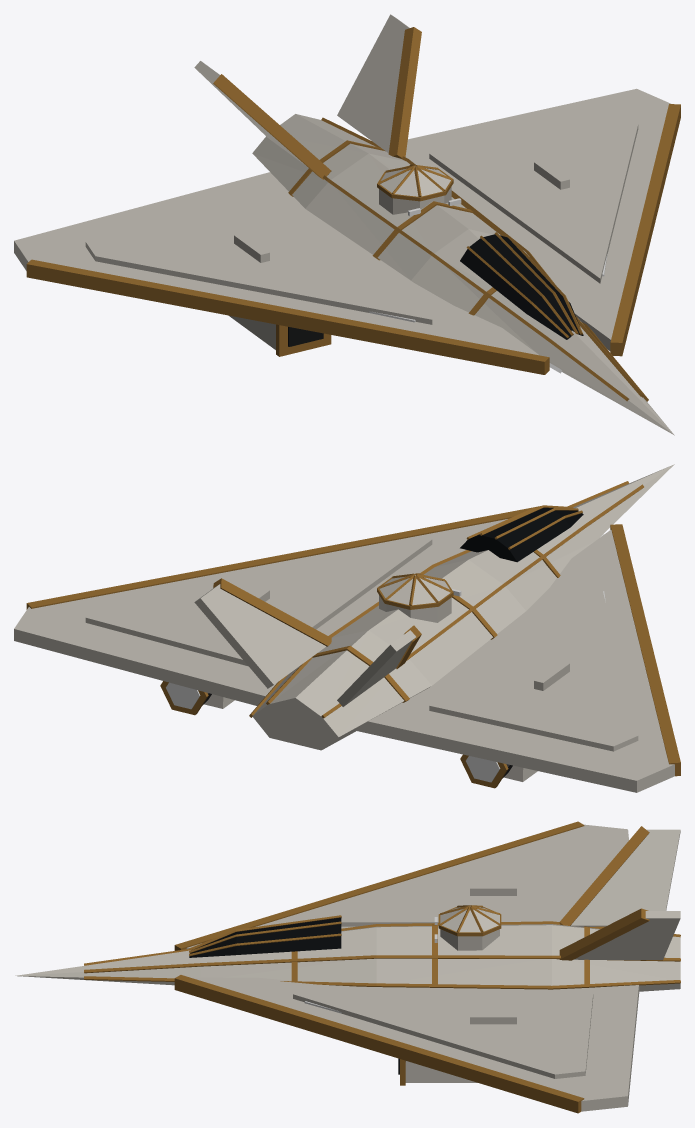
File: bomber_t2.glb
3 views of the same model, one above another, from view 1: azimuth 30°, elevation 25°; view 2: azimuth 150°, elevation 25°; view 3: azimuth 270°, elevation 25° (orthographic). The views are drawn at different scales.
Parts seen in each view (by area): view 1: body; view 2: body; view 3: body.
Boxes of the visible parts, box(x1,y1,x2,y2) form: body: box(14, 14, 680, 435); body: box(14, 464, 680, 792); body: box(15, 821, 680, 1113).
Bounding box in the file's own units: 11.35 × 2.7 × 11.41.
